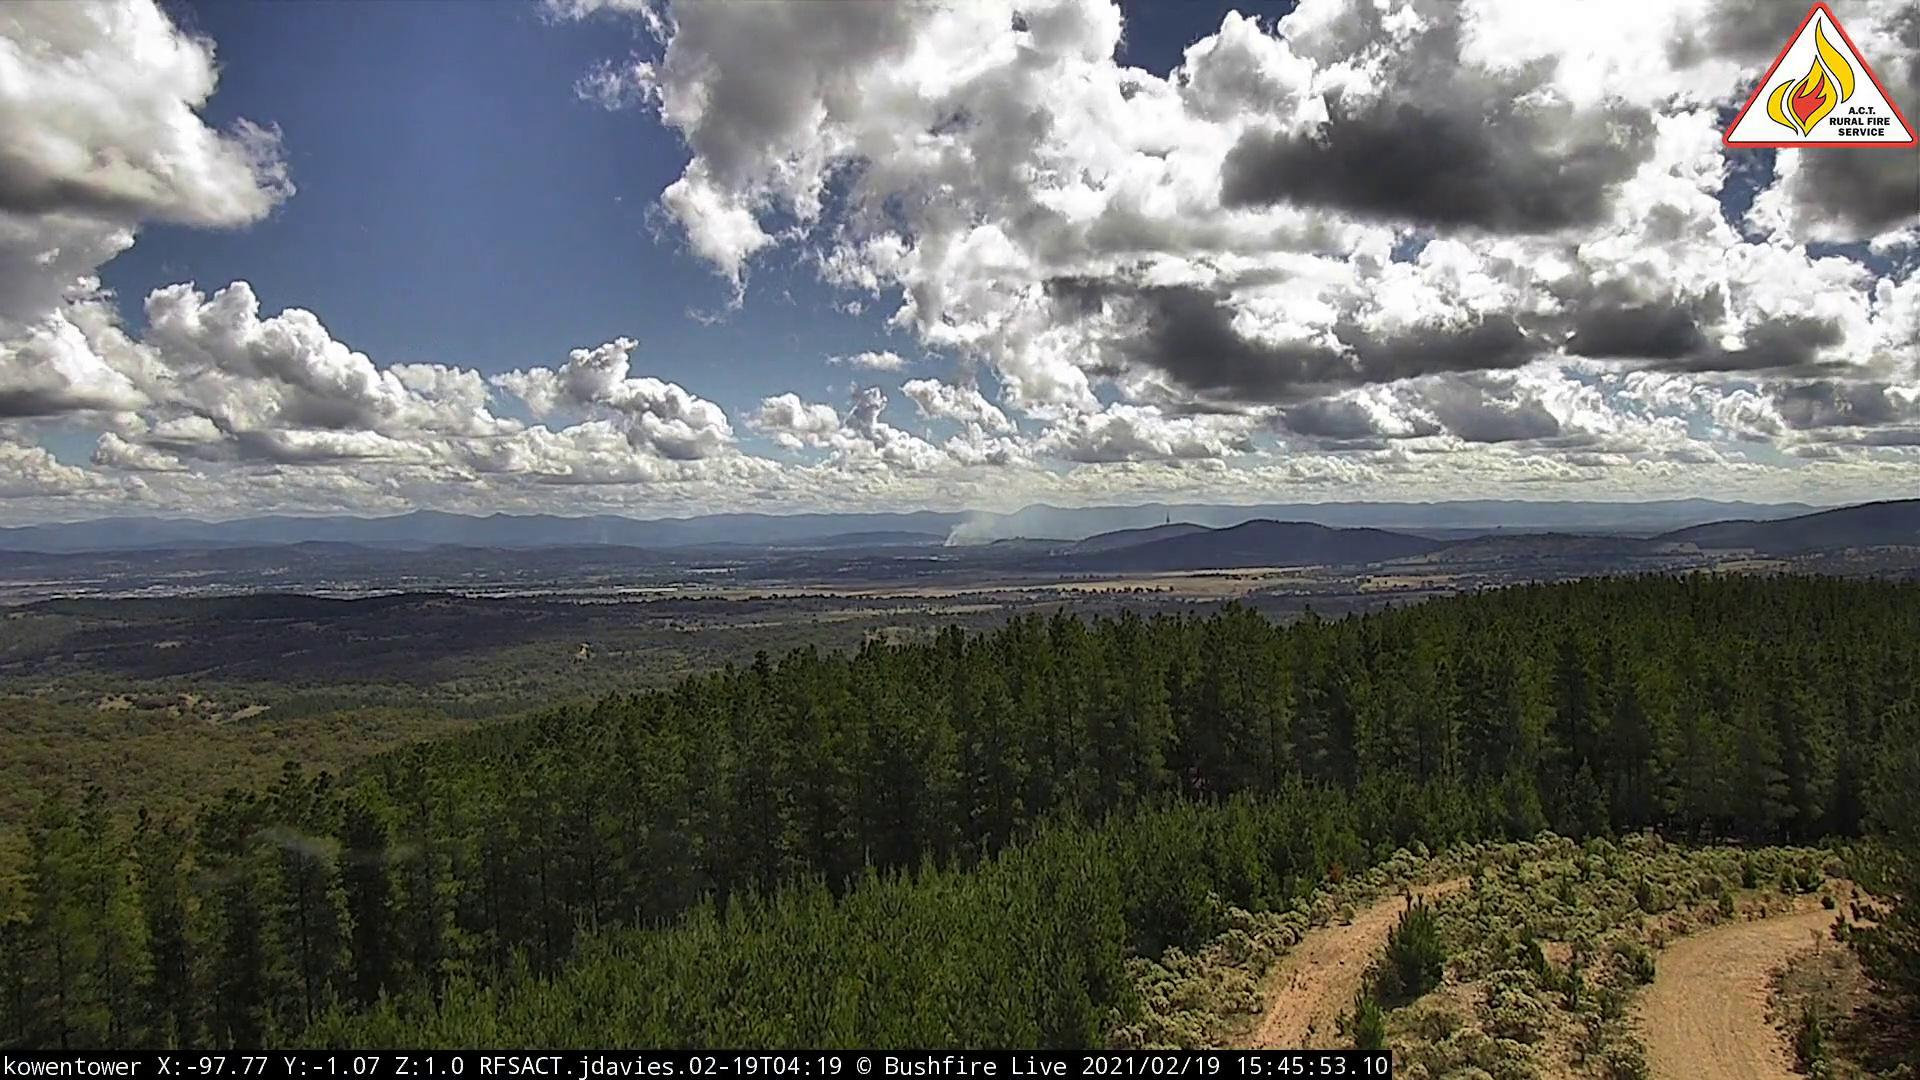Smoke: (942, 508, 1013, 555), (599, 531, 613, 554)
